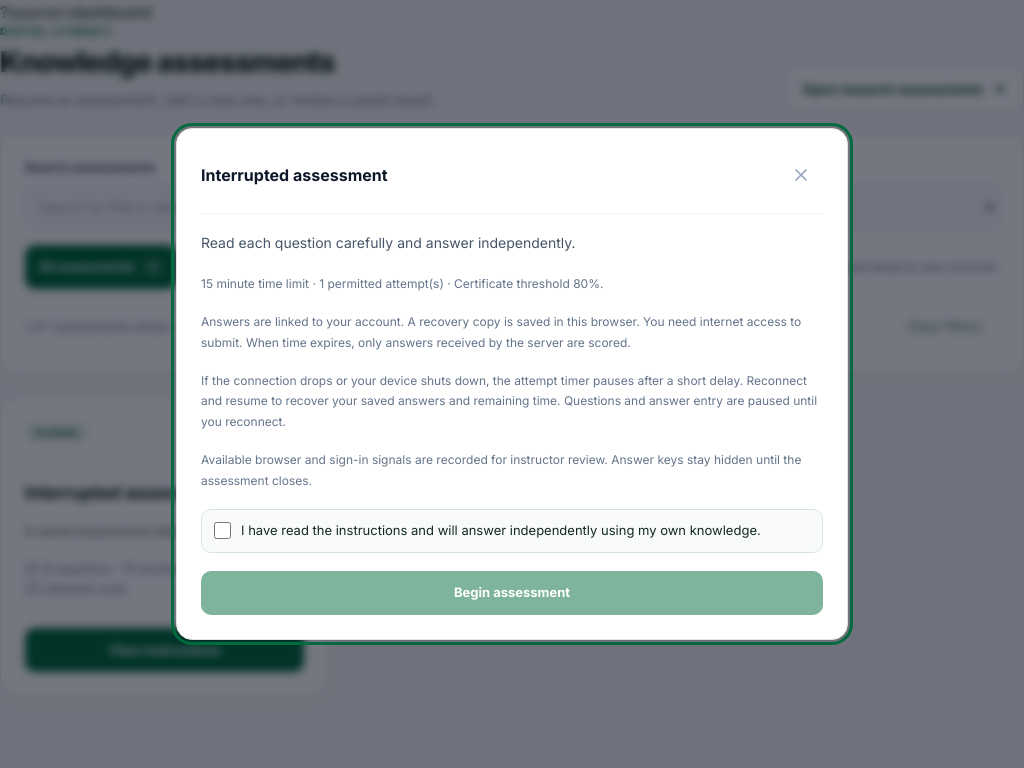
Test: finding student assessments › opens instructions from the dashboard and consumes only the assessment query
Expected: the button "Begin assessment" is disabled, [201,571,823,615]
Expected: the text with test id "assessment-query" reads "?source=dashboard", [0,2,151,22]
Click the button named "Close dialog": (801, 175) [779,153,823,197]
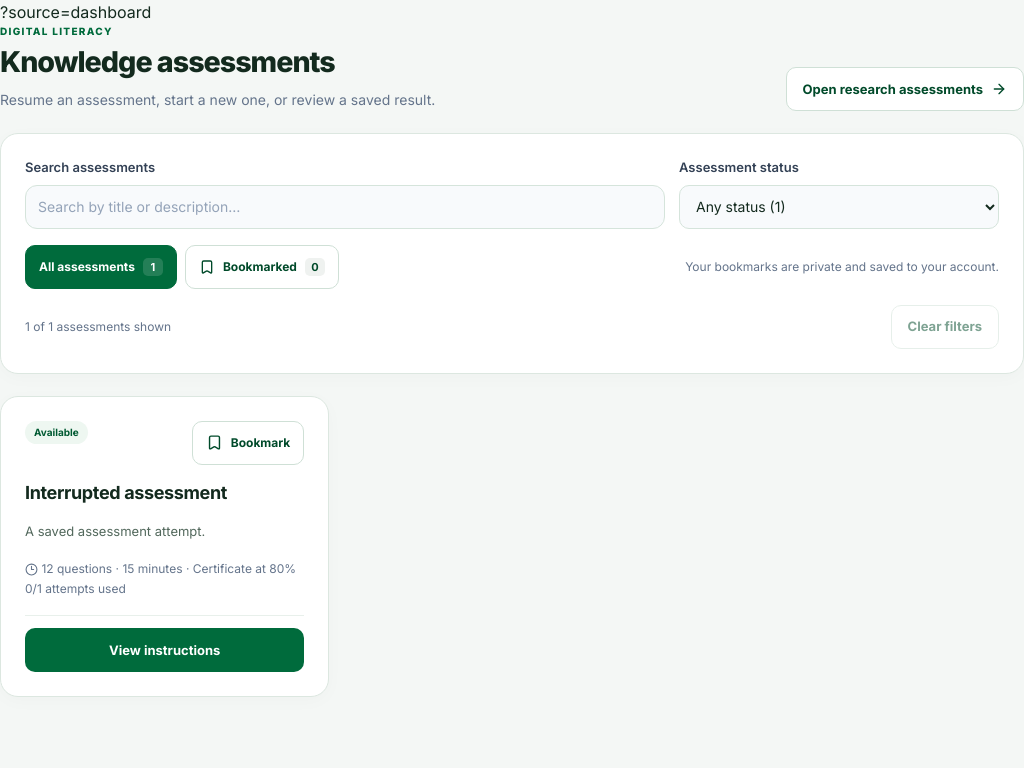
Expected: the dialog is gone
